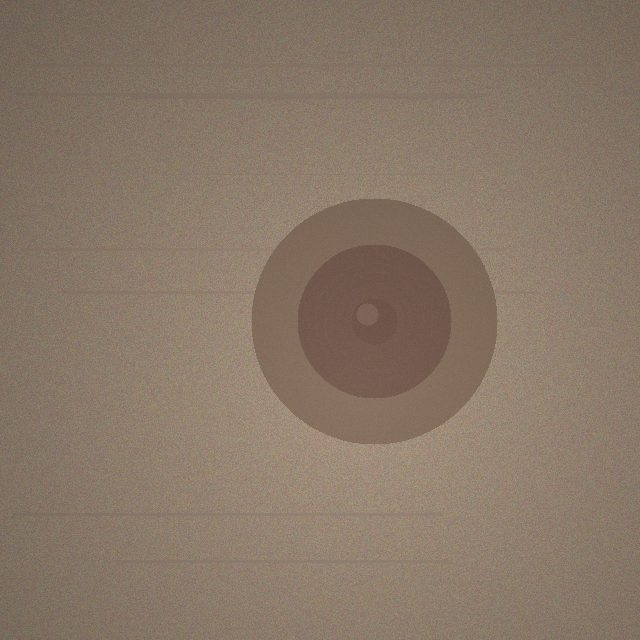good: (251, 198, 497, 444)
